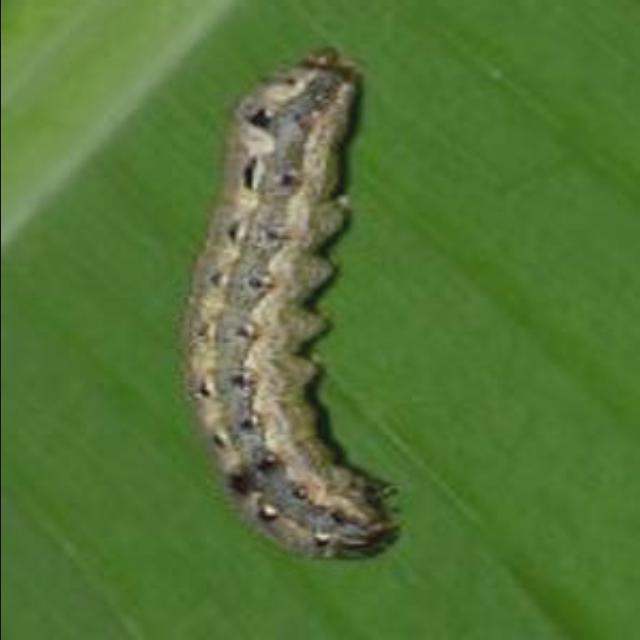Tobacco cutworm: (136, 34, 468, 582)
